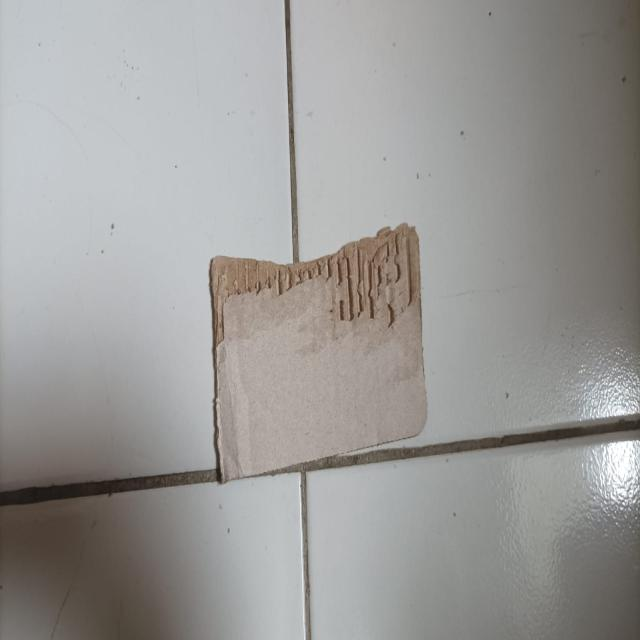Organik: (215, 225, 428, 482)
